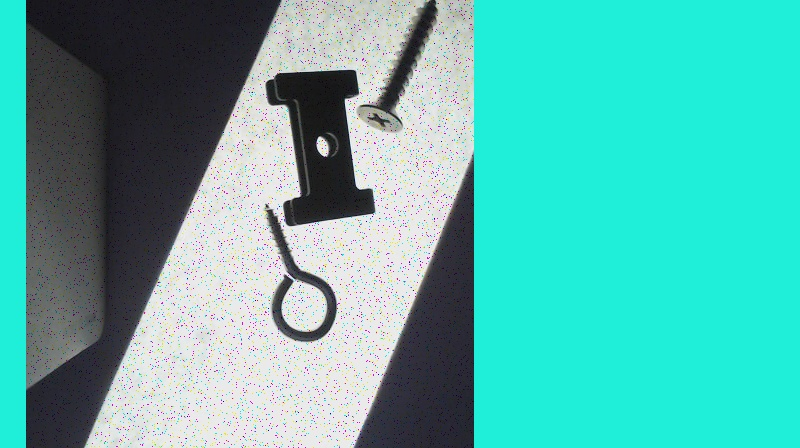O001: (259, 199, 337, 341)
O002: (263, 67, 376, 225)
S001: (355, 0, 439, 134)
